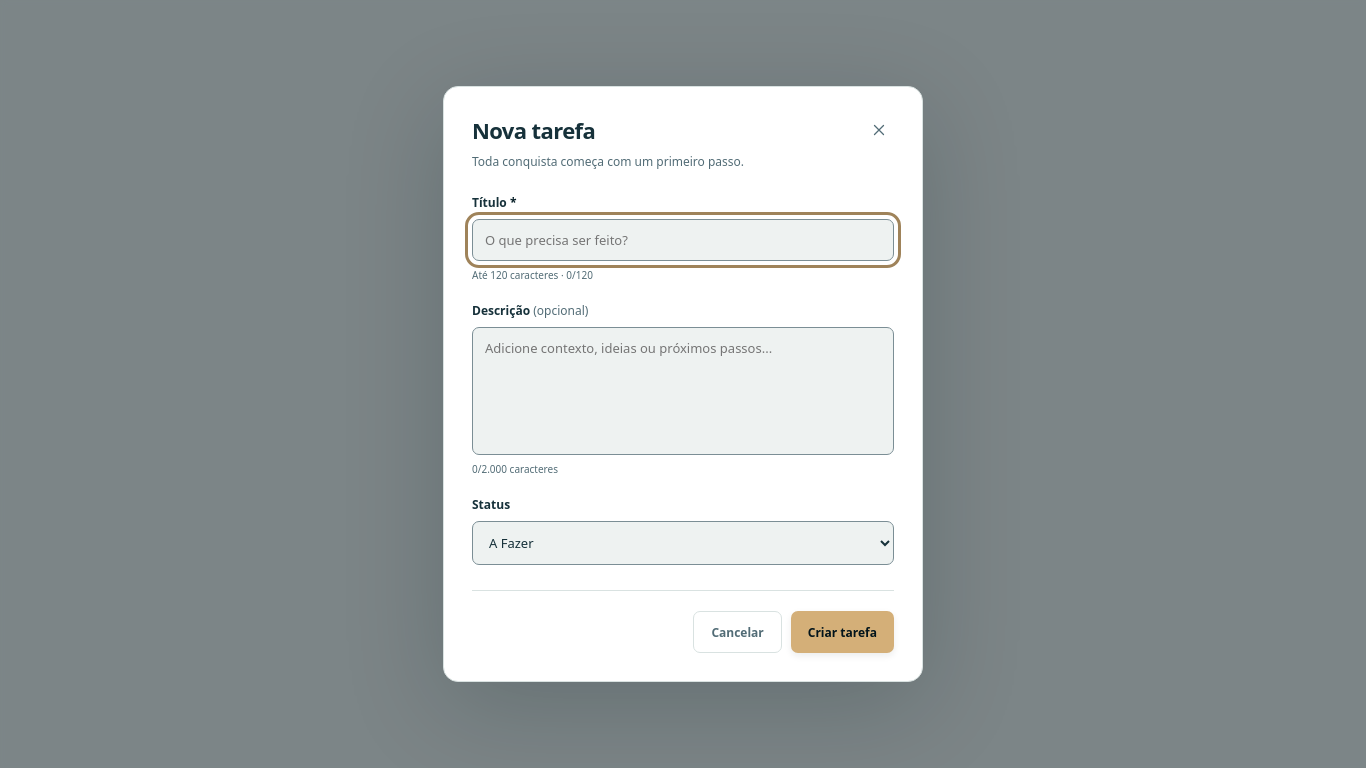
TaskForm › preserves the form and shows server failures
The width and height of the screenshot is (1366, 768).
Step 1. Type "Não perder" into the field labelled "Título *" → (683, 240), box x1=472 y1=219 x2=894 y2=261
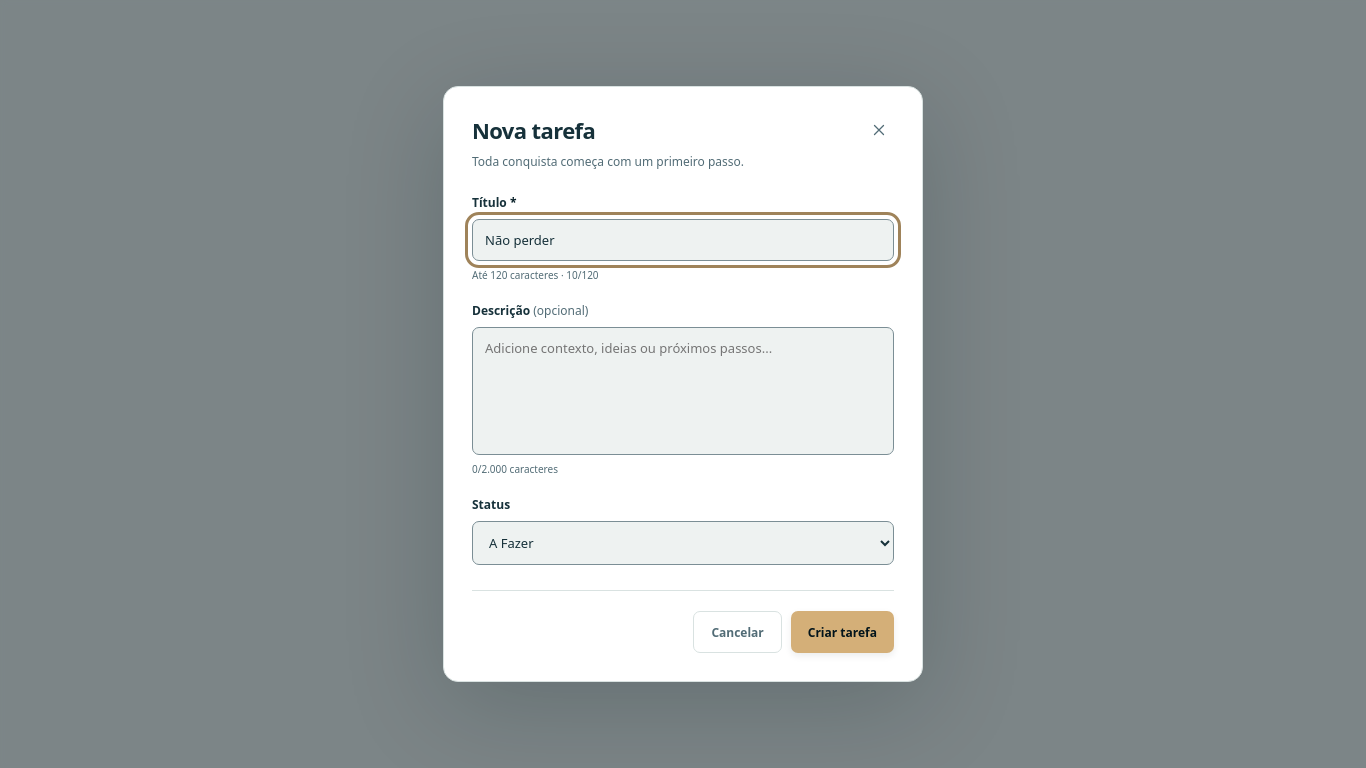
Step 2. Type "Minhas anotações" into the text box labelled "Descrição (opcional)" → (683, 391), box x1=472 y1=327 x2=894 y2=455
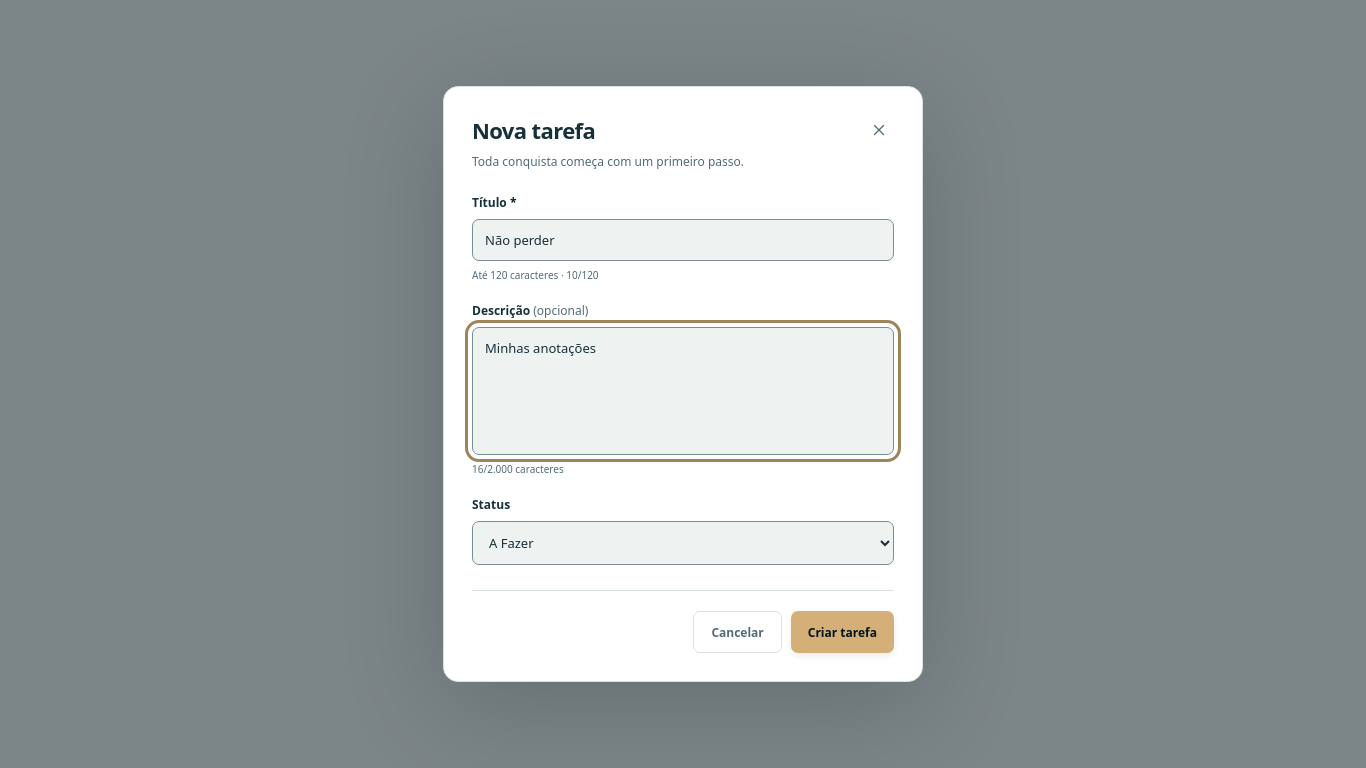
Step 3. Click the button "Criar tarefa" → click(842, 632), box x1=791 y1=611 x2=894 y2=653
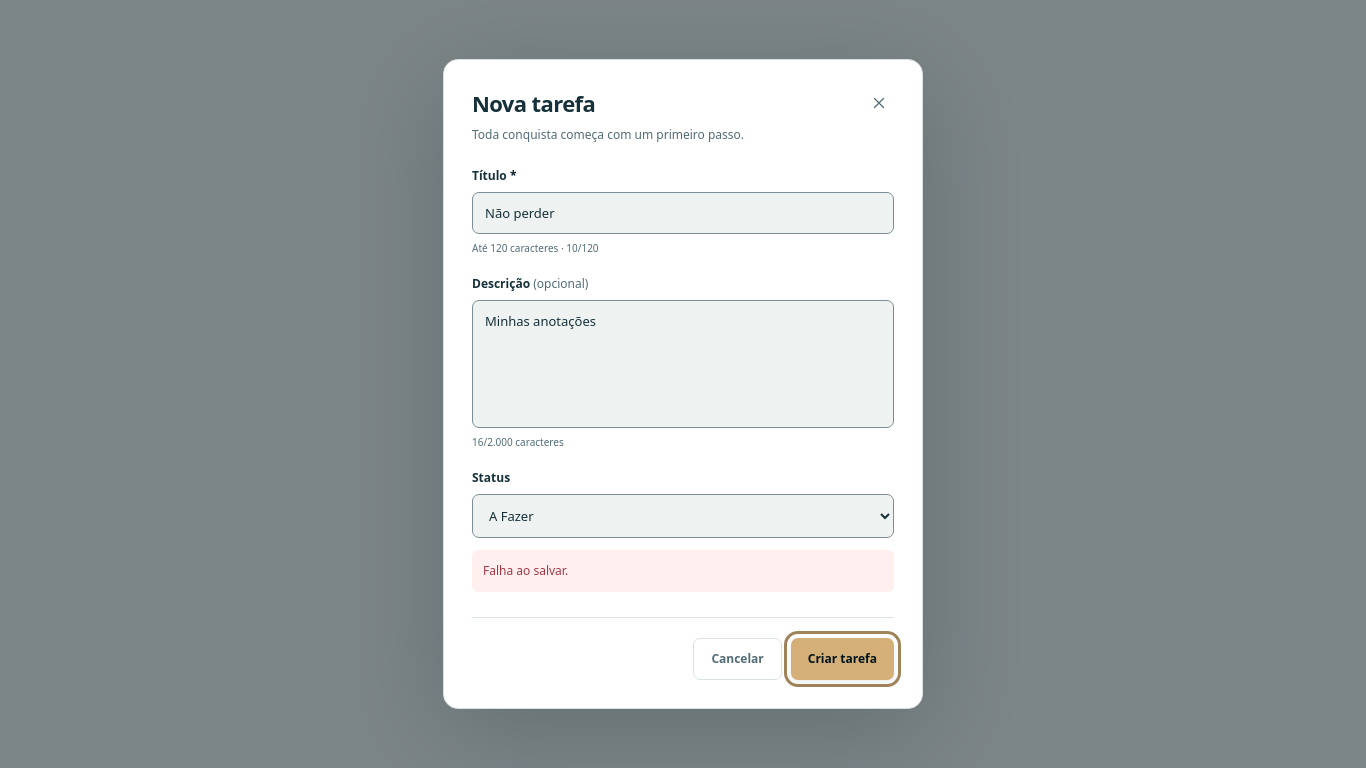
Expected: the message reads "Falha ao salvar.", x1=483 y1=562 x2=568 y2=579
